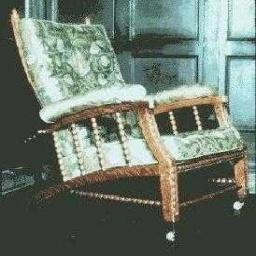Chair: (9, 9, 250, 246)
